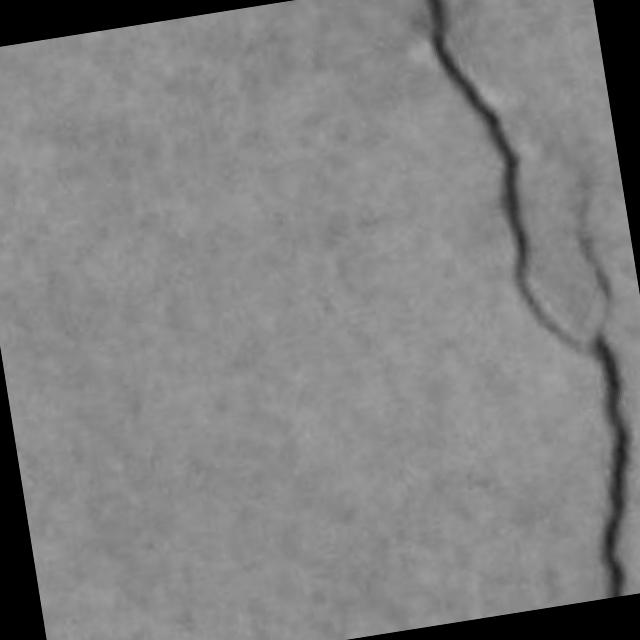crack: (426, 0, 630, 597), (426, 0, 580, 349), (589, 335, 630, 597)
